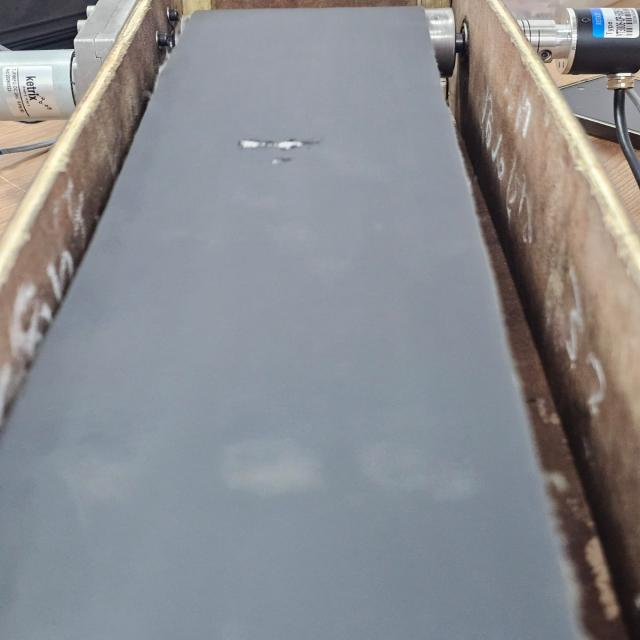crack: (233, 130, 371, 179)
